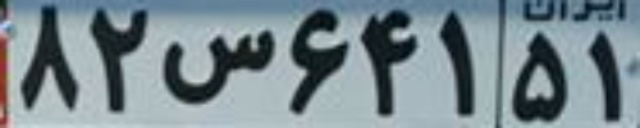1: (432, 10, 475, 114), (586, 30, 622, 119)
3: (87, 3, 158, 112)
4: (363, 10, 421, 113)
5: (508, 31, 571, 122)
6: (286, 8, 351, 114)
8: (17, 3, 77, 108)
sin: (160, 29, 275, 105)
